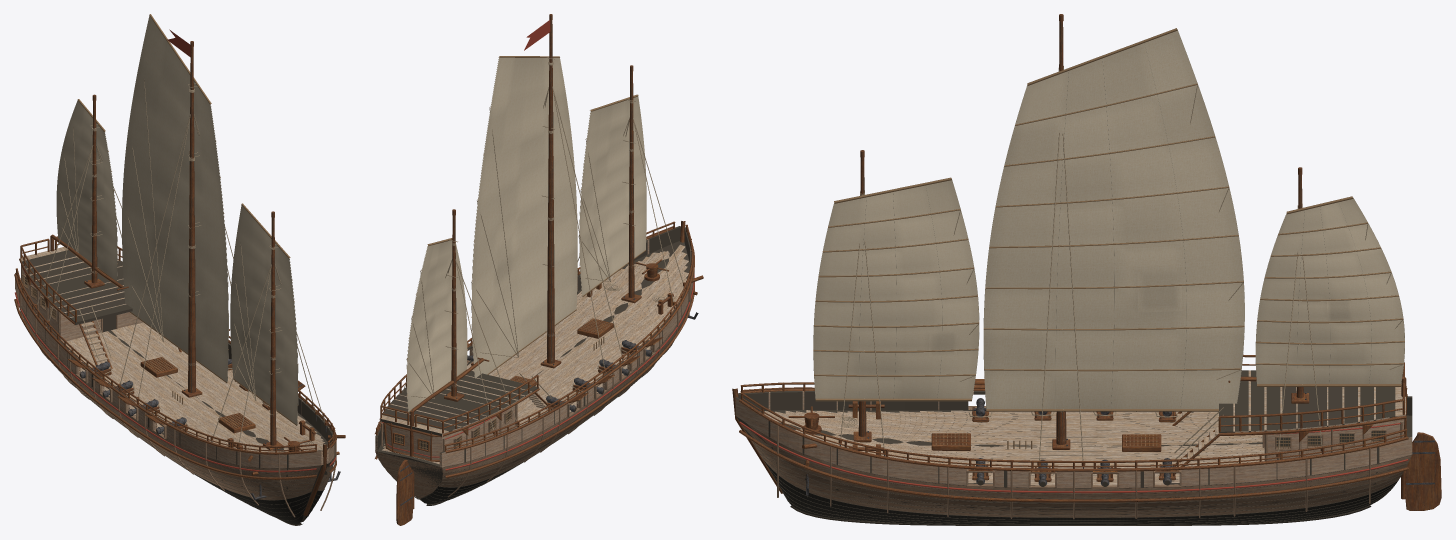
File: fuchuan-lod0.glb
3 views of the same model, side by side, from view 1: azimuth 30°, elevation 25°; view 2: azimuth 150°, elevation 25°; view 3: azimuth 270°, elevation 25° (orthographic). The views are drawn at different scales.
Parts seen in each view (by area): view 1: sail_1, hull, deck, sail_0, sail_2, shadow_deck, deck_fittings, bulwark_rails, mast_timber_1, shadow_hull, sterncastle, mast_timber_0 (+7 smaller); view 2: sail_1, deck, hull, sail_0, sail_2, shadow_deck, deck_fittings, shadow_hull, bulwark_rails, mast_timber_1, mast_timber_0, stern_transom (+9 smaller); view 3: sail_1, hull, sail_0, sail_2, deck, shadow_hull, shadow_deck, bulwark_rails, deck_fittings, rudder_blade, sterncastle, rigging_1.
Part boxes in pixels (x1,y1,x2,y2): sail_1: (122,14,228,383); hull: (14,273,336,525); deck: (19,247,327,452); sail_0: (230,203,298,425); sail_2: (56,99,117,281); shadow_deck: (22,250,132,324); deck_fittings: (21,265,345,500); bulwark_rails: (15,236,335,452); mast_timber_1: (188,47,195,392); shadow_hull: (15,273,334,522); sterncastle: (22,269,143,342); mast_timber_0: (270,218,276,445); sail_1: (471,56,577,378); deck: (379,244,688,464); hull: (375,221,694,505); sail_0: (578,94,646,296); sail_2: (406,238,467,412); shadow_deck: (380,371,538,436); deck_fittings: (381,259,703,461); shadow_hull: (375,226,691,503); bulwark_rails: (376,221,693,451); mast_timber_1: (547,20,554,363); mast_timber_0: (628,71,634,297); stern_transom: (385,424,441,459); sail_1: (983,28,1244,411); hull: (732,388,1412,525); sail_0: (813,177,979,401); sail_2: (1255,196,1404,386); deck: (764,370,1406,485); shadow_hull: (735,391,1412,524); shadow_deck: (1219,370,1395,432); bulwark_rails: (740,354,1407,468); deck_fittings: (788,386,1406,495); rudder_blade: (1405,432,1441,510); sterncastle: (1264,419,1403,460); rigging_1: (1037,132,1085,473).
Bounding box in the file's own units: 10.4 × 26.65 × 33.55.
13 materials, 8 textured.
